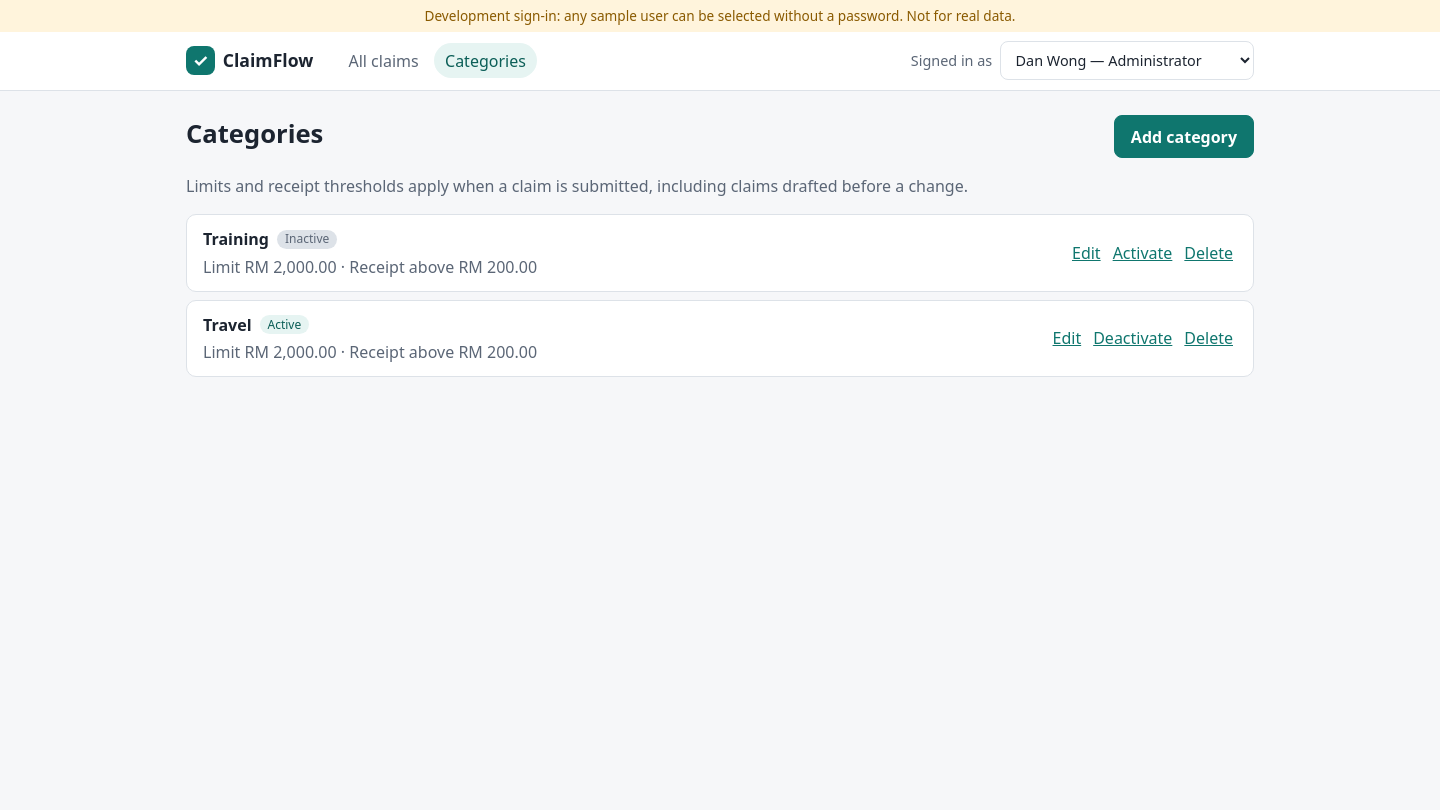
Test: category management › edits limits and shows server validation
Click the button named "Edit Travel" at coordinates (1067, 338), box left=1048, top=322, right=1085, bottom=354
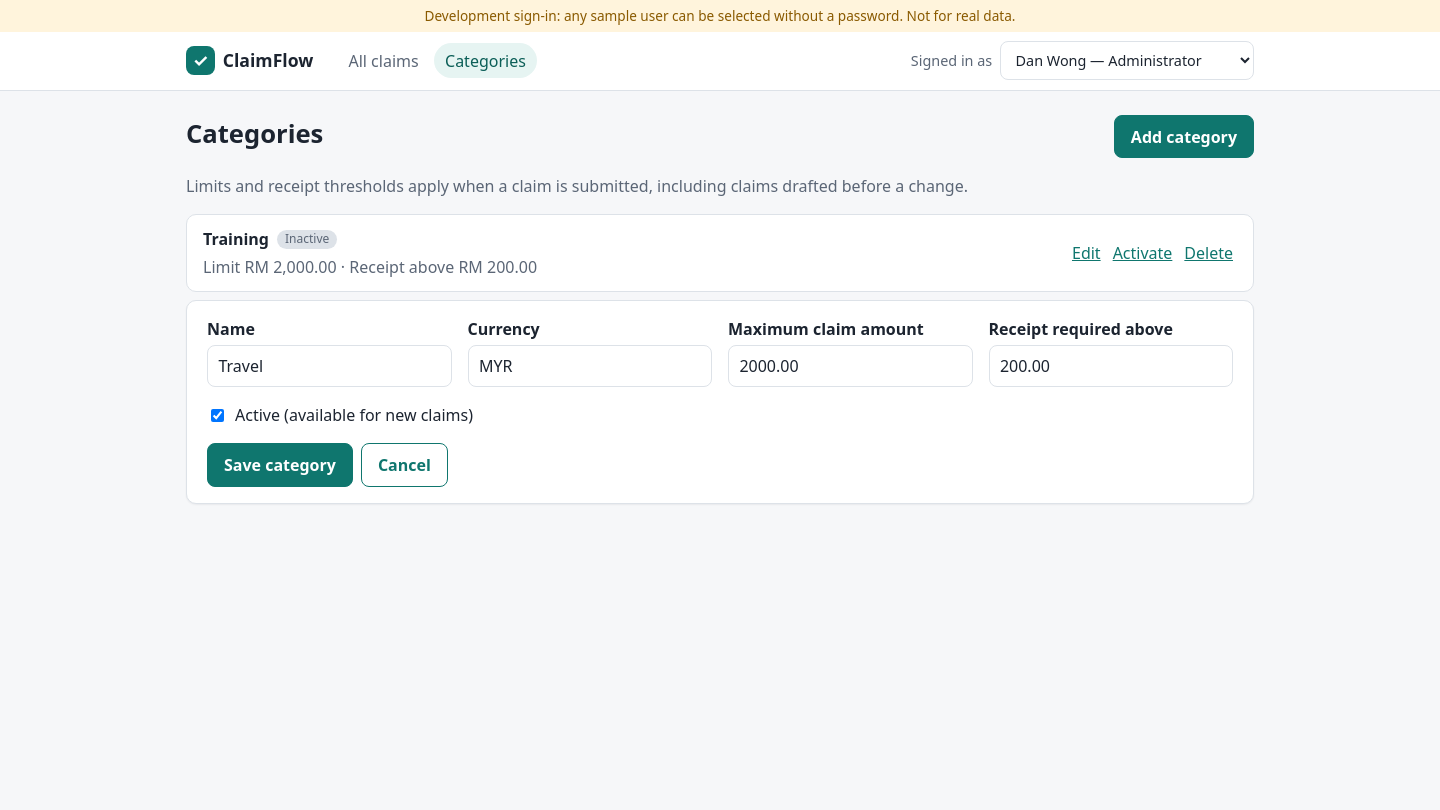
Check: the field labelled "Maximum claim amount" holds "2000.00"
Replace the text in the field labelled "Maximum claim amount" with "2500" at coordinates (850, 366), box left=728, top=345, right=972, bottom=387
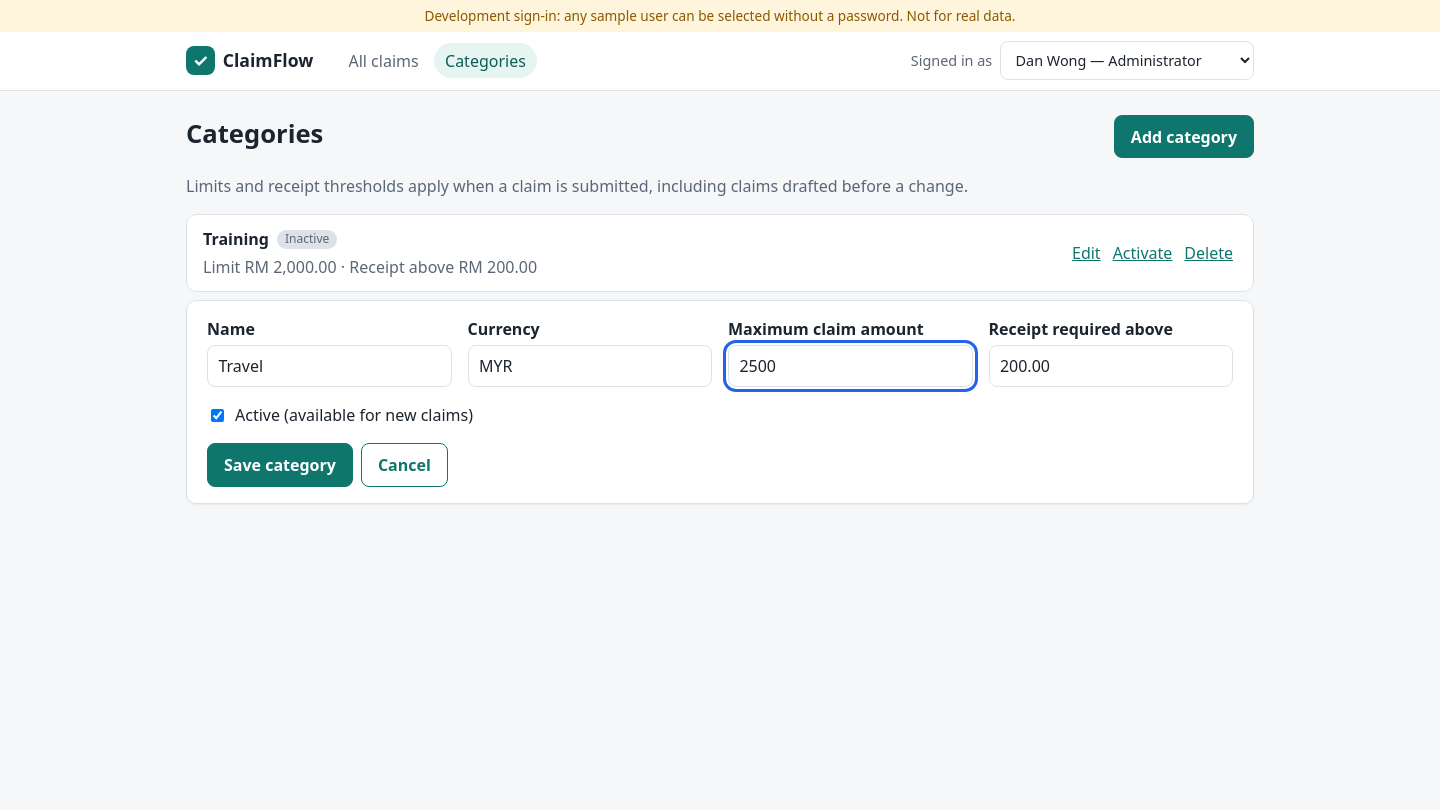
Click the button "Save category" at coordinates (280, 465), box left=207, top=443, right=353, bottom=487
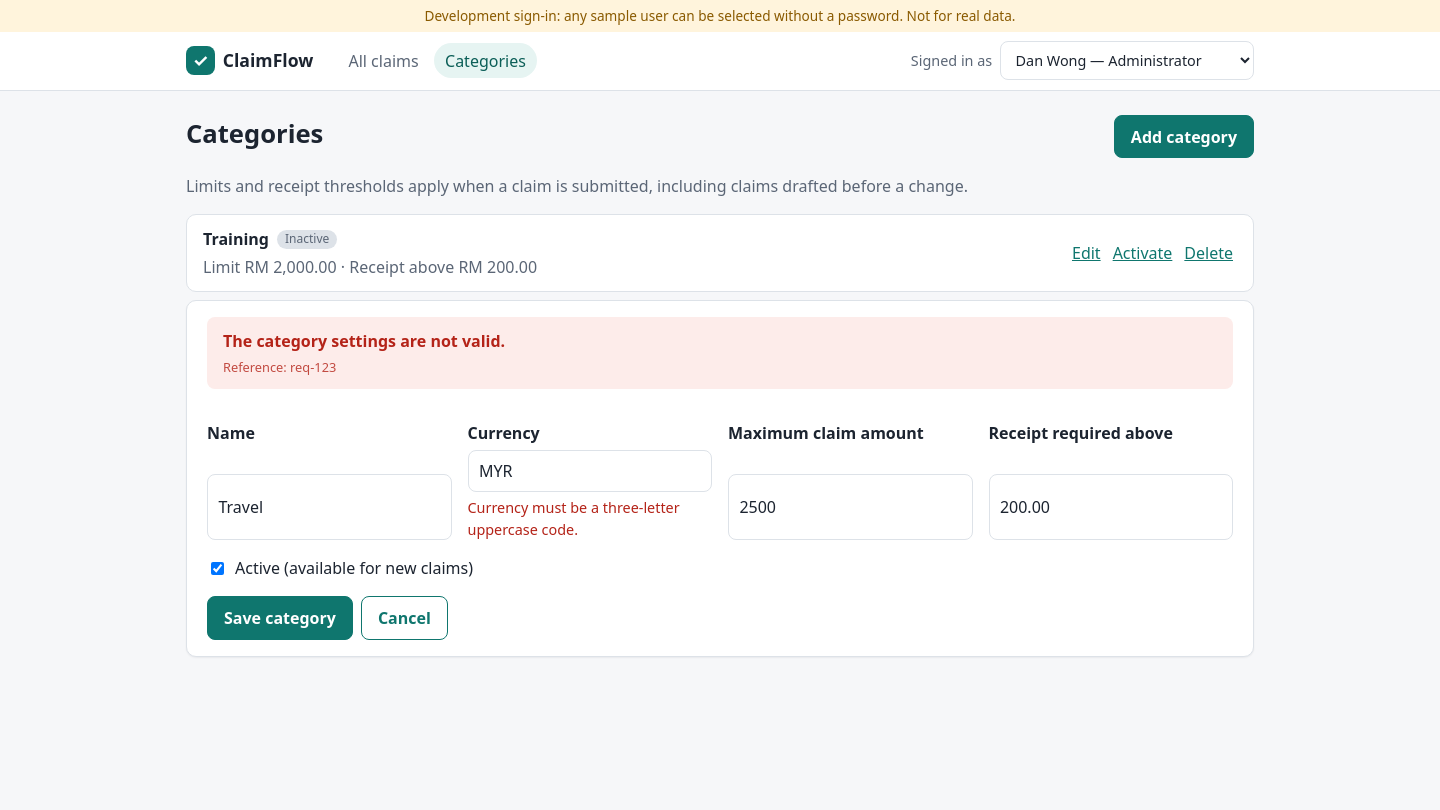
Check: the text "Currency must be a three-letter uppercase code." is shown, box left=468, top=497, right=712, bottom=540
